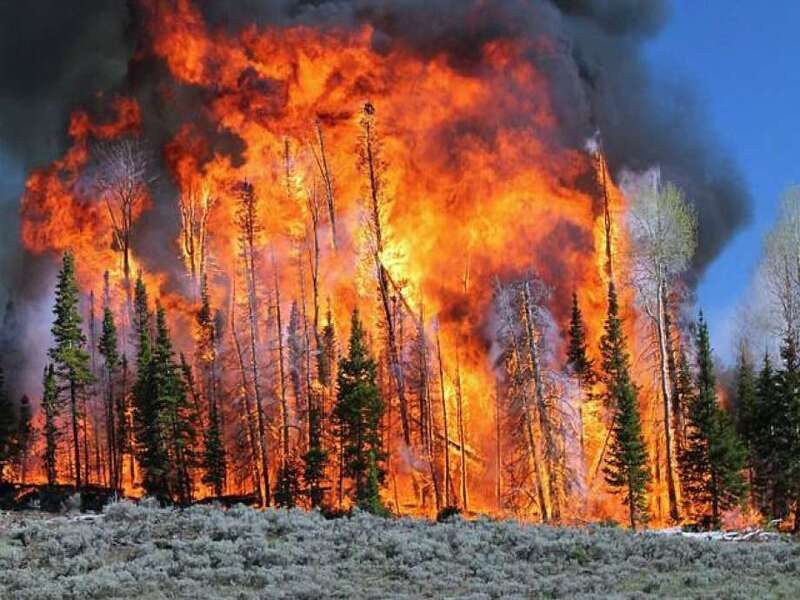fire: (76, 31, 617, 507)
